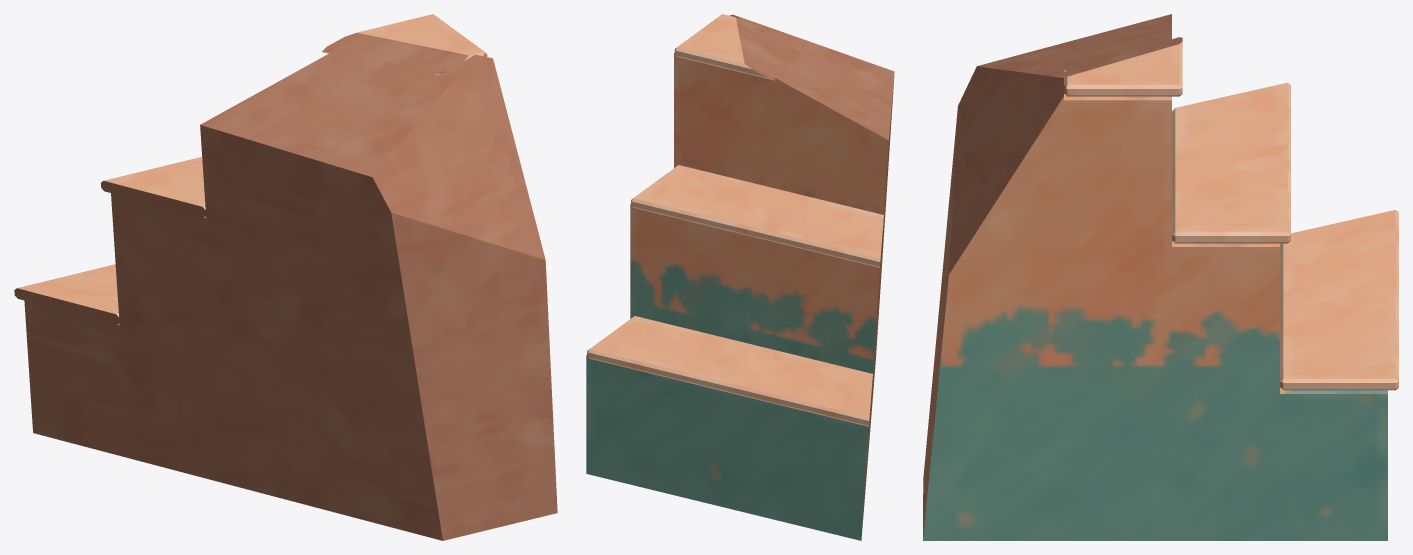
The model's file is stairs_s00.fbx.
3 renders of one model, left to right at view 1: azimuth 30°, elevation 25°; view 2: azimuth 150°, elevation 25°; view 3: azimuth 270°, elevation 25°, orthographic. The views are drawn at different scales.
Parts seen in each view (by area): view 1: stairs_s00; view 2: stairs_s00; view 3: stairs_s00.
Boxes of the visible parts, bbox=[...] form: stairs_s00: bbox=[14, 14, 557, 540]; stairs_s00: bbox=[586, 14, 894, 540]; stairs_s00: bbox=[923, 14, 1398, 540].
Bounding box in the file's own units: 3.79 × 4.63 × 4.4.
